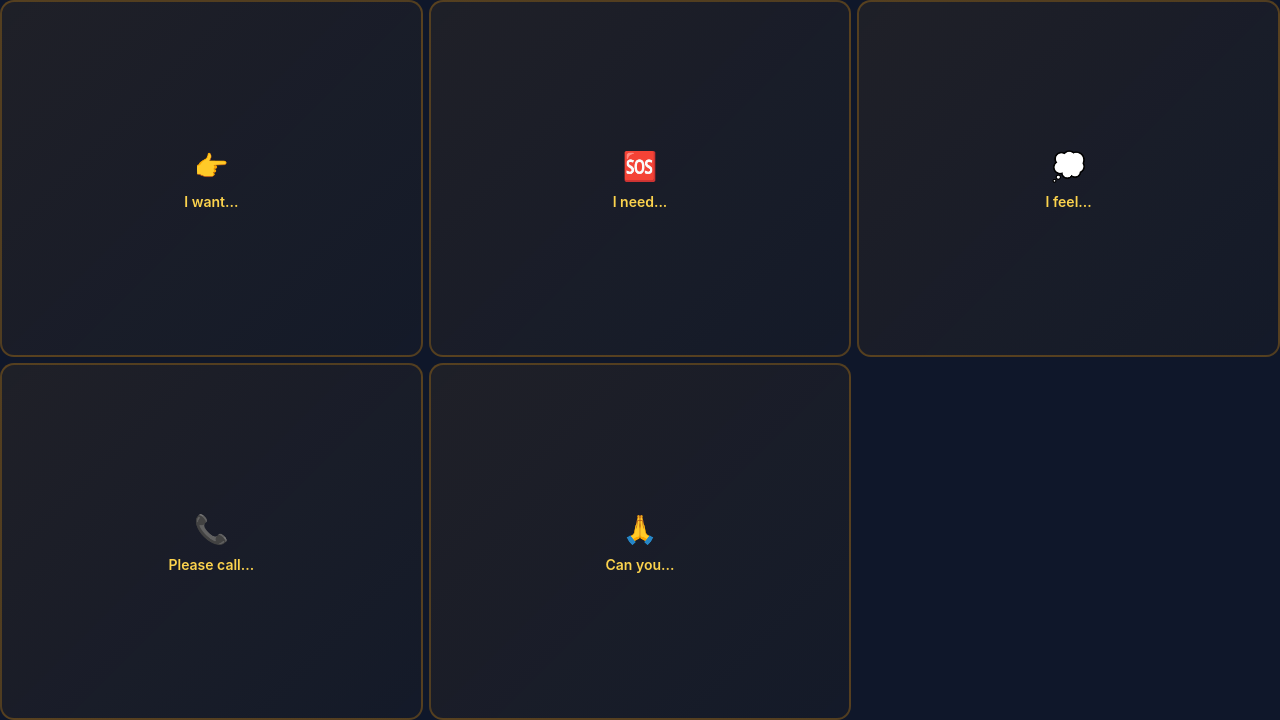
Test: PhraseBuilder › returns to starters when Back is clicked
This screenshot has width=1280, height=720.
Click the text "I need...". click: (640, 202)
box: [613, 191, 667, 212]
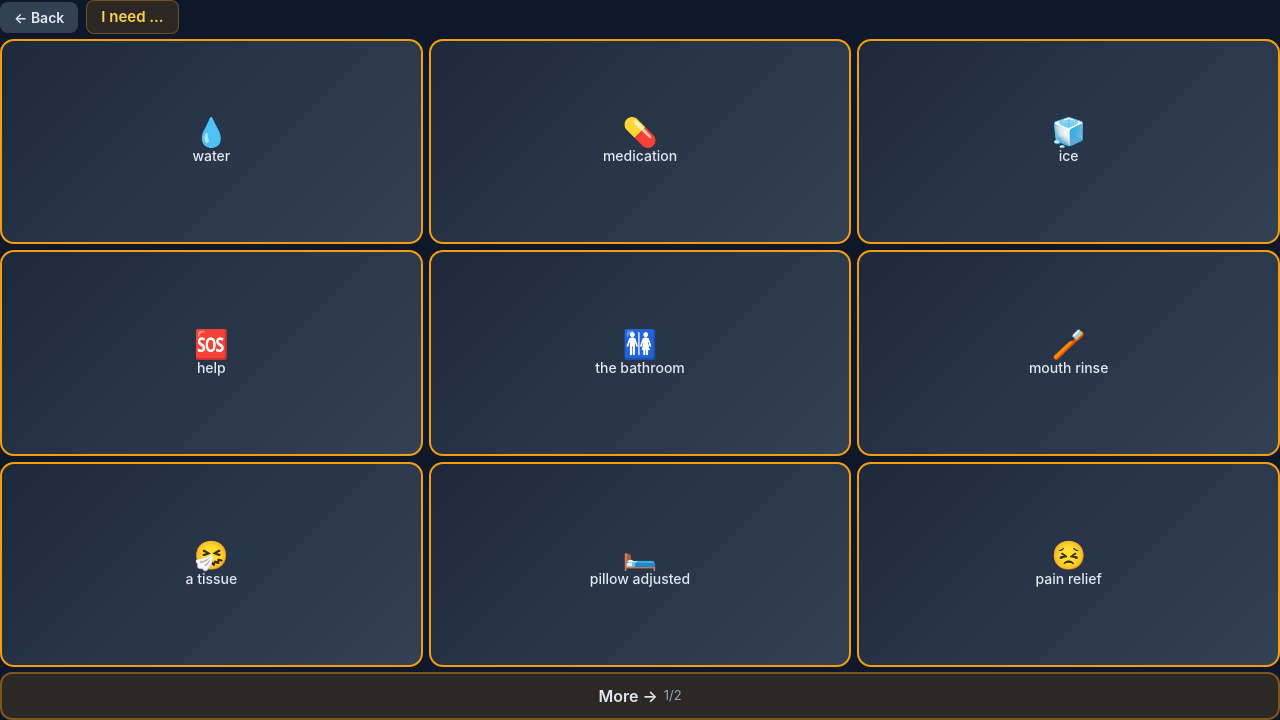
Click the button "← Back". click: (39, 17)
box: [0, 2, 78, 32]
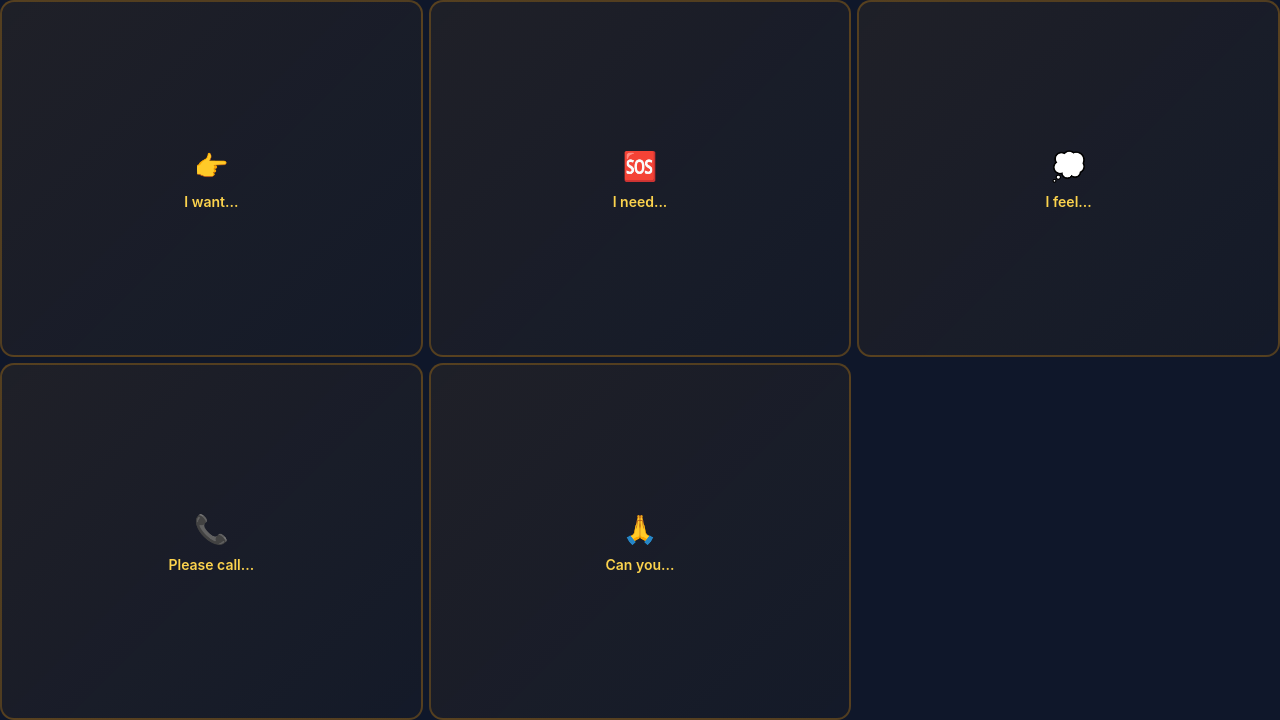
Expected: the text "I need..." is shown, [613, 191, 667, 212]
